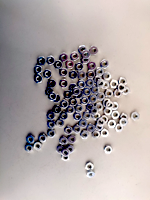nut: (37, 57, 47, 66), (48, 79, 57, 89), (54, 61, 64, 70), (60, 53, 69, 63), (60, 68, 69, 78), (90, 46, 99, 56), (101, 60, 110, 70), (117, 83, 126, 93), (83, 111, 92, 121), (119, 113, 129, 122), (34, 75, 43, 84), (44, 70, 53, 79), (60, 80, 69, 89), (69, 71, 78, 80), (82, 50, 91, 59), (88, 62, 97, 71), (87, 70, 96, 79), (96, 68, 105, 77), (86, 79, 95, 88), (131, 112, 140, 121), (101, 81, 110, 90), (119, 78, 128, 87), (114, 89, 123, 98), (104, 145, 113, 154), (26, 135, 35, 144), (39, 134, 48, 143), (47, 121, 56, 130), (47, 112, 56, 121), (66, 145, 75, 154), (68, 135, 77, 144), (48, 92, 57, 101), (69, 98, 78, 107), (91, 86, 100, 95), (89, 95, 98, 104), (81, 97, 90, 106), (79, 119, 88, 128), (90, 107, 99, 116), (86, 103, 95, 112), (95, 103, 104, 112), (111, 102, 120, 111), (120, 118, 129, 127), (112, 111, 121, 120), (108, 120, 117, 129), (47, 56, 55, 66), (71, 52, 79, 62), (76, 62, 84, 72), (34, 141, 42, 151), (73, 87, 81, 97), (96, 93, 106, 101), (66, 61, 75, 69), (79, 46, 87, 55), (79, 71, 87, 80), (104, 72, 112, 81), (95, 76, 103, 85), (97, 80, 106, 88), (111, 80, 119, 89), (123, 87, 131, 96), (105, 90, 114, 98), (87, 170, 96, 178), (48, 130, 56, 139), (57, 119, 65, 128), (65, 126, 73, 135), (60, 137, 68, 146), (57, 146, 65, 155), (62, 153, 70, 162), (73, 125, 81, 134), (54, 106, 62, 115), (46, 88, 54, 97), (61, 100, 69, 109), (64, 91, 73, 99), (83, 88, 92, 96), (75, 91, 84, 99), (75, 105, 84, 113), (60, 112, 68, 121), (74, 113, 82, 122), (87, 124, 95, 133), (92, 131, 101, 139), (101, 129, 109, 138), (104, 108, 113, 116), (116, 124, 125, 132), (35, 66, 43, 74), (82, 56, 90, 64), (78, 81, 86, 89), (86, 163, 94, 171), (25, 145, 33, 153), (62, 149, 70, 157), (81, 131, 89, 139), (53, 95, 61, 103), (69, 84, 77, 92), (67, 107, 75, 115), (98, 119, 106, 127), (103, 99, 111, 107), (101, 116, 109, 124), (107, 101, 114, 110), (96, 124, 103, 132), (93, 114, 101, 121)
